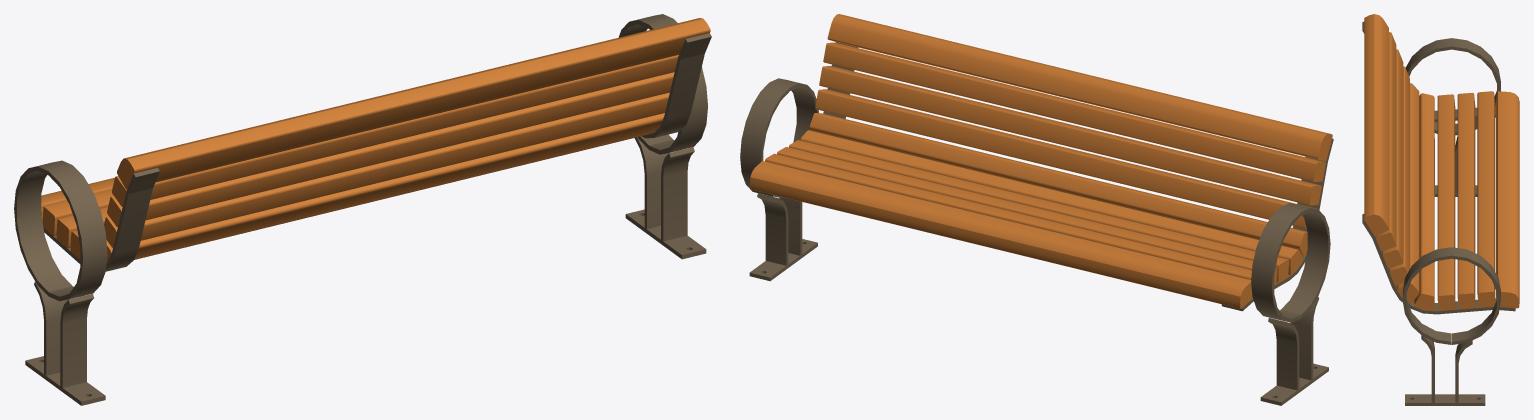
3 renders of one model, left to right at view 1: azimuth 30°, elevation 25°; view 2: azimuth 150°, elevation 25°; view 3: azimuth 270°, elevation 25°, orthographic. The views are drawn at different scales.
Parts seen in each view (by area): view 1: mesh34_mesh34-geometry, mesh29_mesh29-geometry, mesh31_mesh31-geometry, mesh5_mesh5-geometry, mesh4_mesh4-geometry, mesh19_mesh19-geometry, mesh17_mesh17-geometry, mesh1_mesh1-geometry, mesh16_mesh16-geometry, mesh2_mesh2-geometry, mesh15_mesh15-geometry, mesh3_mesh3-geometry (+1 smaller); view 2: mesh34_mesh34-geometry, mesh29_mesh29-geometry, mesh31_mesh31-geometry, mesh5_mesh5-geometry, mesh17_mesh17-geometry, mesh15_mesh15-geometry, mesh2_mesh2-geometry, mesh1_mesh1-geometry, mesh16_mesh16-geometry, mesh3_mesh3-geometry, mesh18_mesh18-geometry, mesh4_mesh4-geometry; view 3: mesh34_mesh34-geometry, mesh29_mesh29-geometry, mesh31_mesh31-geometry, mesh17_mesh17-geometry, mesh5_mesh5-geometry, mesh18_mesh18-geometry, mesh19_mesh19-geometry, mesh15_mesh15-geometry, mesh16_mesh16-geometry, mesh4_mesh4-geometry, mesh2_mesh2-geometry.
Boxes of the visible parts, box(x1,y1,x2,y2) form: mesh34_mesh34-geometry: box(42, 55, 678, 259); mesh29_mesh29-geometry: box(41, 18, 710, 221); mesh31_mesh31-geometry: box(106, 113, 664, 262); mesh5_mesh5-geometry: box(14, 160, 107, 301); mesh4_mesh4-geometry: box(43, 168, 159, 271); mesh19_mesh19-geometry: box(642, 33, 711, 138); mesh17_mesh17-geometry: box(618, 14, 707, 154); mesh1_mesh1-geometry: box(60, 293, 93, 387); mesh16_mesh16-geometry: box(661, 147, 694, 241); mesh2_mesh2-geometry: box(34, 281, 68, 375); mesh15_mesh15-geometry: box(634, 137, 668, 228); mesh3_mesh3-geometry: box(25, 356, 105, 405); mesh34_mesh34-geometry: box(765, 42, 1325, 285); mesh29_mesh29-geometry: box(749, 14, 1332, 308); mesh31_mesh31-geometry: box(800, 113, 1307, 275); mesh5_mesh5-geometry: box(1251, 203, 1330, 322); mesh17_mesh17-geometry: box(740, 78, 818, 197); mesh15_mesh15-geometry: box(757, 193, 788, 265); mesh2_mesh2-geometry: box(1268, 318, 1299, 390); mesh1_mesh1-geometry: box(1290, 296, 1319, 380); mesh16_mesh16-geometry: box(779, 197, 802, 255); mesh3_mesh3-geometry: box(1260, 363, 1328, 405); mesh18_mesh18-geometry: box(749, 239, 817, 281); mesh4_mesh4-geometry: box(1221, 138, 1333, 311); mesh34_mesh34-geometry: box(1376, 32, 1495, 310); mesh29_mesh29-geometry: box(1364, 14, 1519, 308); mesh31_mesh31-geometry: box(1397, 83, 1434, 311); mesh17_mesh17-geometry: box(1402, 247, 1500, 344); mesh5_mesh5-geometry: box(1405, 38, 1500, 135); mesh18_mesh18-geometry: box(1405, 394, 1485, 405); mesh19_mesh19-geometry: box(1362, 214, 1515, 314); mesh15_mesh15-geometry: box(1455, 340, 1472, 402); mesh16_mesh16-geometry: box(1421, 335, 1434, 402); mesh4_mesh4-geometry: box(1362, 21, 1495, 122); mesh2_mesh2-geometry: box(1455, 137, 1457, 193).
Size of the model in its own units: 0.8955 by 0.3511 by 0.2736.
